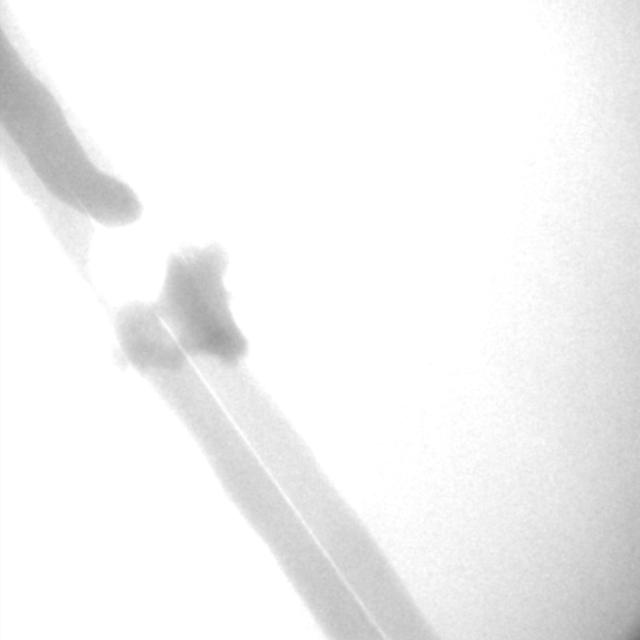broken-arc: (77, 158, 192, 320)
